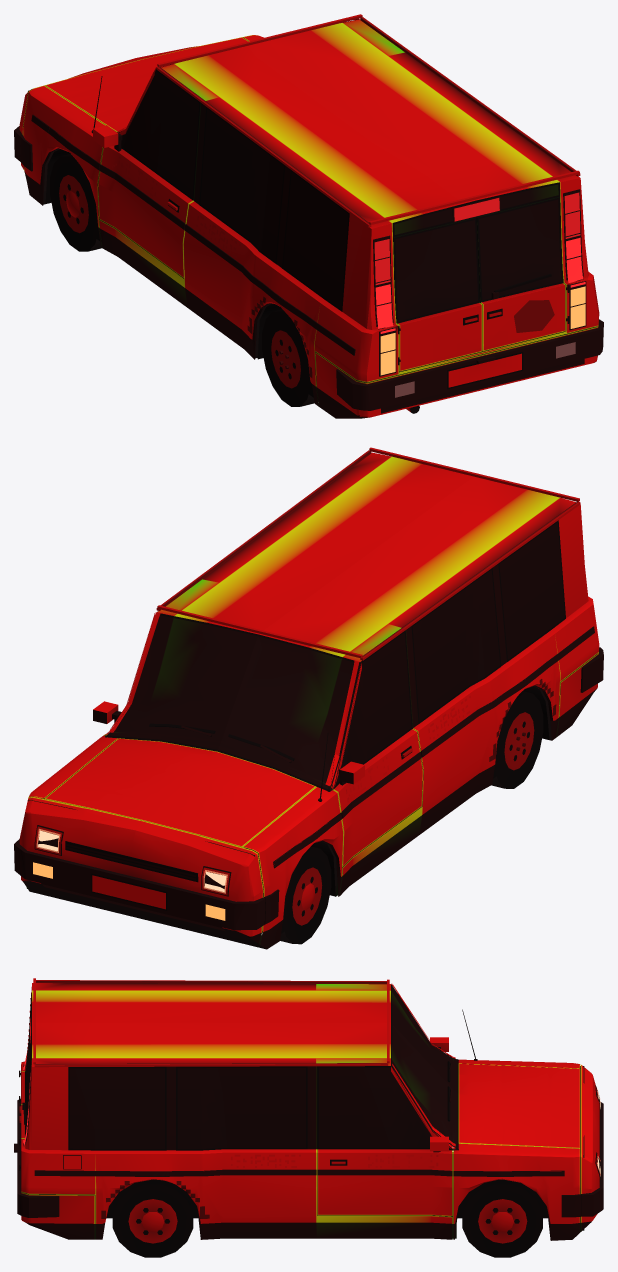
The model's file is body.glb.
3 renders of one model, top to bottom at view 1: azimuth 30°, elevation 25°; view 2: azimuth 150°, elevation 25°; view 3: azimuth 270°, elevation 25°, orthographic. The views are drawn at different scales.
Parts seen in each view (by area): view 1: body, glass_quarter_l, glass_barn_l, glass_barn_r, bumper_r_band, door_l, glass_door_l, fender_fl, hood, roof_rails, barn_l, wheel_rl_mesh (+25 smaller); view 2: body, glass_windshield, hood, glass_quarter_l, bumper_f, bumper_f_band, glass_door_l, door_l, fender_fl, roof_rails, wheel_fl_mesh, wheel_rl_mesh (+13 smaller); view 3: body, glass_quarter_r, hood, door_r, glass_door_r, fender_fr, glass_windshield, wheel_rr_mesh, wheel_fr_mesh, roof_rails, bumper_f, bumper_r (+11 smaller).
Boxes of the visible parts, x1=… form: body: x1=99, y1=19, x2=599, y2=406; glass_quarter_l: x1=200, y1=109, x2=349, y2=309; glass_barn_l: x1=393, y1=217, x2=478, y2=323; glass_barn_r: x1=476, y1=197, x2=561, y2=302; bumper_r_band: x1=336, y1=319, x2=603, y2=413; door_l: x1=98, y1=146, x2=193, y2=278; glass_door_l: x1=119, y1=70, x2=200, y2=200; fender_fl: x1=23, y1=85, x2=105, y2=247; hood: x1=45, y1=37, x2=248, y2=131; roof_rails: x1=156, y1=14, x2=580, y2=227; barn_l: x1=397, y1=303, x2=482, y2=371; wheel_rl_mesh: x1=262, y1=309, x2=318, y2=406; body: x1=157, y1=452, x2=599, y2=895; glass_windshield: x1=108, y1=615, x2=359, y2=788; hood: x1=45, y1=738, x2=315, y2=847; glass_quarter_l: x1=411, y1=522, x2=564, y2=723; bumper_f: x1=19, y1=797, x2=263, y2=944; bumper_f_band: x1=14, y1=839, x2=279, y2=931; glass_door_l: x1=331, y1=632, x2=411, y2=789; door_l: x1=333, y1=729, x2=422, y2=866; fender_fl: x1=243, y1=786, x2=343, y2=949; roof_rails: x1=156, y1=447, x2=580, y2=660; wheel_fl_mesh: x1=261, y1=846, x2=331, y2=944; wheel_rl_mesh: x1=491, y1=691, x2=543, y2=788; body: x1=21, y1=983, x2=453, y2=1239; glass_quarter_r: x1=70, y1=1068, x2=305, y2=1149; hood: x1=458, y1=1063, x2=580, y2=1148; door_r: x1=317, y1=1149, x2=452, y2=1216; glass_door_r: x1=319, y1=1066, x2=452, y2=1149; fender_fr: x1=451, y1=1143, x2=580, y2=1240; glass_windshield: x1=391, y1=984, x2=458, y2=1149; wheel_rr_mesh: x1=112, y1=1179, x2=193, y2=1257; wheel_fr_mesh: x1=462, y1=1179, x2=542, y2=1257; roof_rails: x1=33, y1=978, x2=389, y2=1067; bumper_f: x1=579, y1=1065, x2=599, y2=1231; bumper_r: x1=21, y1=1192, x2=95, y2=1239.
Size of the model in its own units: 1.85 by 1.56 by 4.39.
